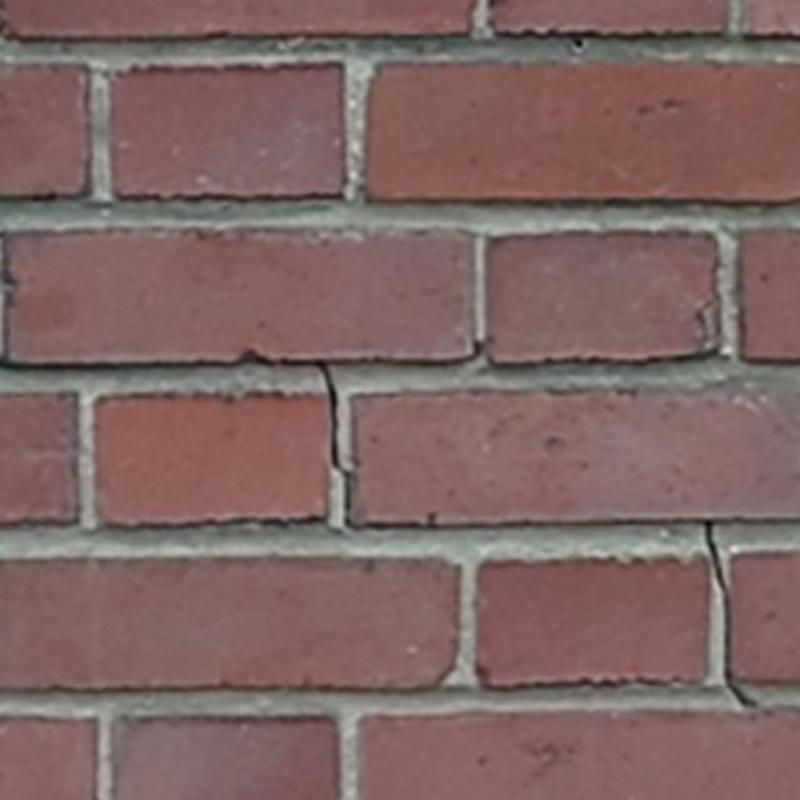crack: (705, 522, 762, 706), (313, 363, 355, 481)
